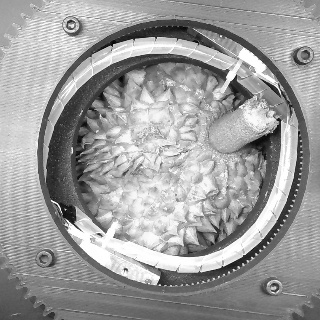base: (198, 111, 248, 165)
end: (243, 98, 278, 133)
